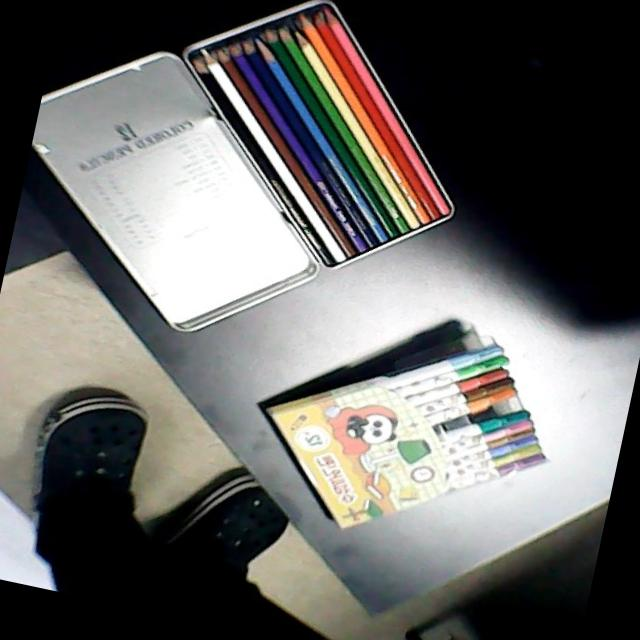color: (172, 0, 463, 278)
signpen: (251, 326, 554, 542)
